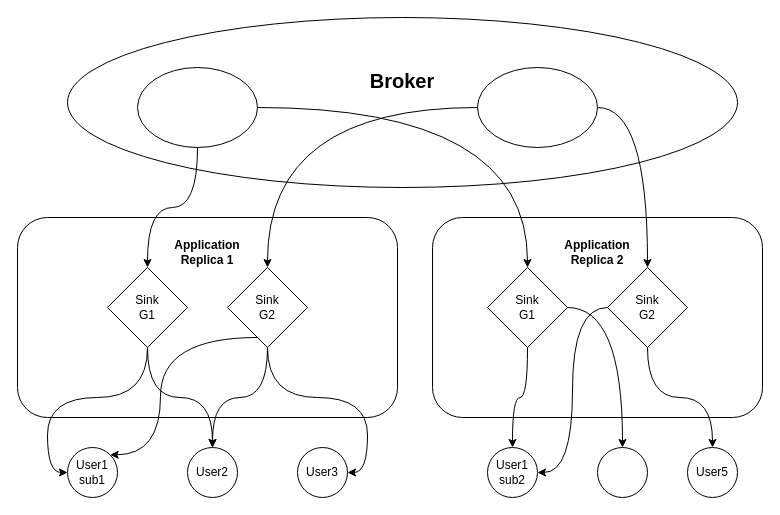
The diagram is 780 pixels wide and 515 high, and some of its shapes have lost their labels. The shapes that lost their labels are listed below. From the top down, each one's centre as x and y in pixels, then its label:
(197,107): Group1
(537,107): Group2
(622,472): User4
